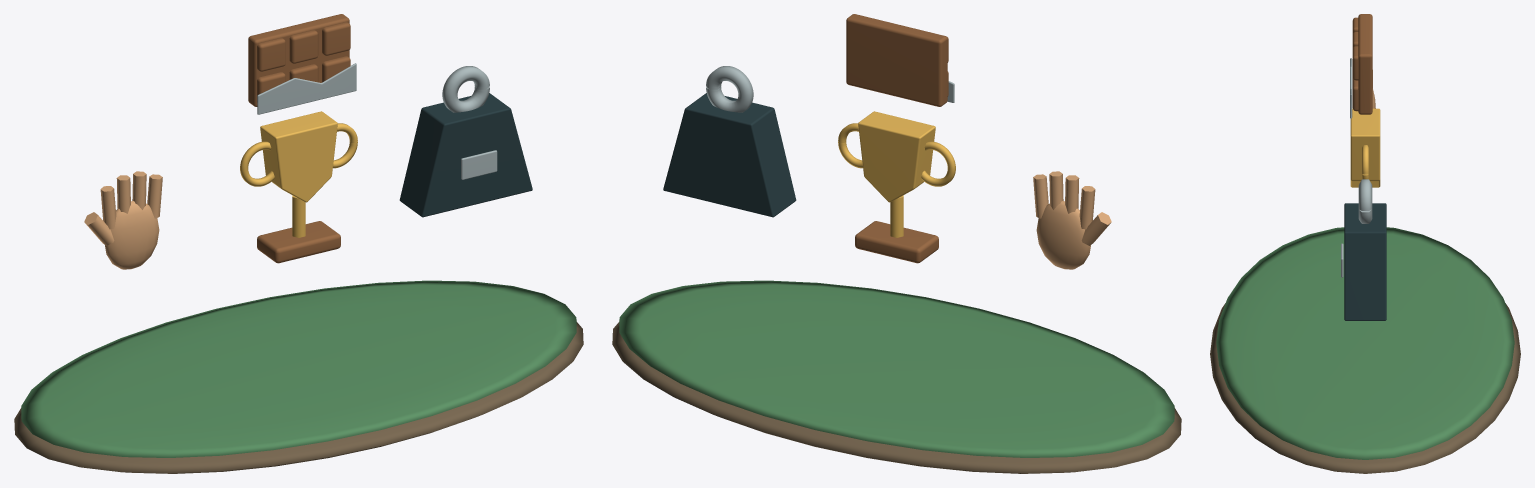
File: complete-first-chocolate-strength.glb
3 renders of one model, left to right at view 1: azimuth 30°, elevation 25°; view 2: azimuth 150°, elevation 25°; view 3: azimuth 270°, elevation 25°, orthographic. The views are drawn at different scales.
Visible parts, largest first — view 1: complete-first-chocolate-strength_surface_01, complete-first-chocolate-strength_surface_05, complete-first-chocolate-strength_surface_00, complete-first-chocolate-strength_surface_04, complete-first-chocolate-strength_surface_03, complete-first-chocolate-strength_surface_02, complete-first-chocolate-strength_surface_06; view 2: complete-first-chocolate-strength_surface_01, complete-first-chocolate-strength_surface_05, complete-first-chocolate-strength_surface_00, complete-first-chocolate-strength_surface_04, complete-first-chocolate-strength_surface_03, complete-first-chocolate-strength_surface_02, complete-first-chocolate-strength_surface_06; view 3: complete-first-chocolate-strength_surface_01, complete-first-chocolate-strength_surface_00, complete-first-chocolate-strength_surface_05, complete-first-chocolate-strength_surface_03, complete-first-chocolate-strength_surface_04, complete-first-chocolate-strength_surface_06.
Part boxes in pixels (x1=…): complete-first-chocolate-strength_surface_01: x1=21, y1=280, x2=576, y2=457; complete-first-chocolate-strength_surface_05: x1=399, y1=93, x2=532, y2=217; complete-first-chocolate-strength_surface_00: x1=14, y1=322, x2=583, y2=473; complete-first-chocolate-strength_surface_04: x1=248, y1=14, x2=350, y2=263; complete-first-chocolate-strength_surface_03: x1=240, y1=111, x2=357, y2=237; complete-first-chocolate-strength_surface_02: x1=84, y1=171, x2=162, y2=269; complete-first-chocolate-strength_surface_06: x1=257, y1=63, x2=497, y2=179; complete-first-chocolate-strength_surface_01: x1=619, y1=280, x2=1174, y2=457; complete-first-chocolate-strength_surface_05: x1=663, y1=93, x2=796, y2=217; complete-first-chocolate-strength_surface_00: x1=612, y1=322, x2=1181, y2=473; complete-first-chocolate-strength_surface_04: x1=846, y1=14, x2=948, y2=263; complete-first-chocolate-strength_surface_03: x1=838, y1=111, x2=955, y2=237; complete-first-chocolate-strength_surface_02: x1=1033, y1=171, x2=1111, y2=269; complete-first-chocolate-strength_surface_06: x1=706, y1=66, x2=954, y2=112; complete-first-chocolate-strength_surface_01: x1=1216, y1=227, x2=1514, y2=459; complete-first-chocolate-strength_surface_00: x1=1210, y1=303, x2=1520, y2=473; complete-first-chocolate-strength_surface_05: x1=1344, y1=203, x2=1386, y2=320; complete-first-chocolate-strength_surface_03: x1=1350, y1=108, x2=1380, y2=187; complete-first-chocolate-strength_surface_04: x1=1352, y1=14, x2=1372, y2=114; complete-first-chocolate-strength_surface_06: x1=1341, y1=58, x2=1372, y2=277.
Bounding box in the file's own units: 4.56 × 2.97 × 2.5.
